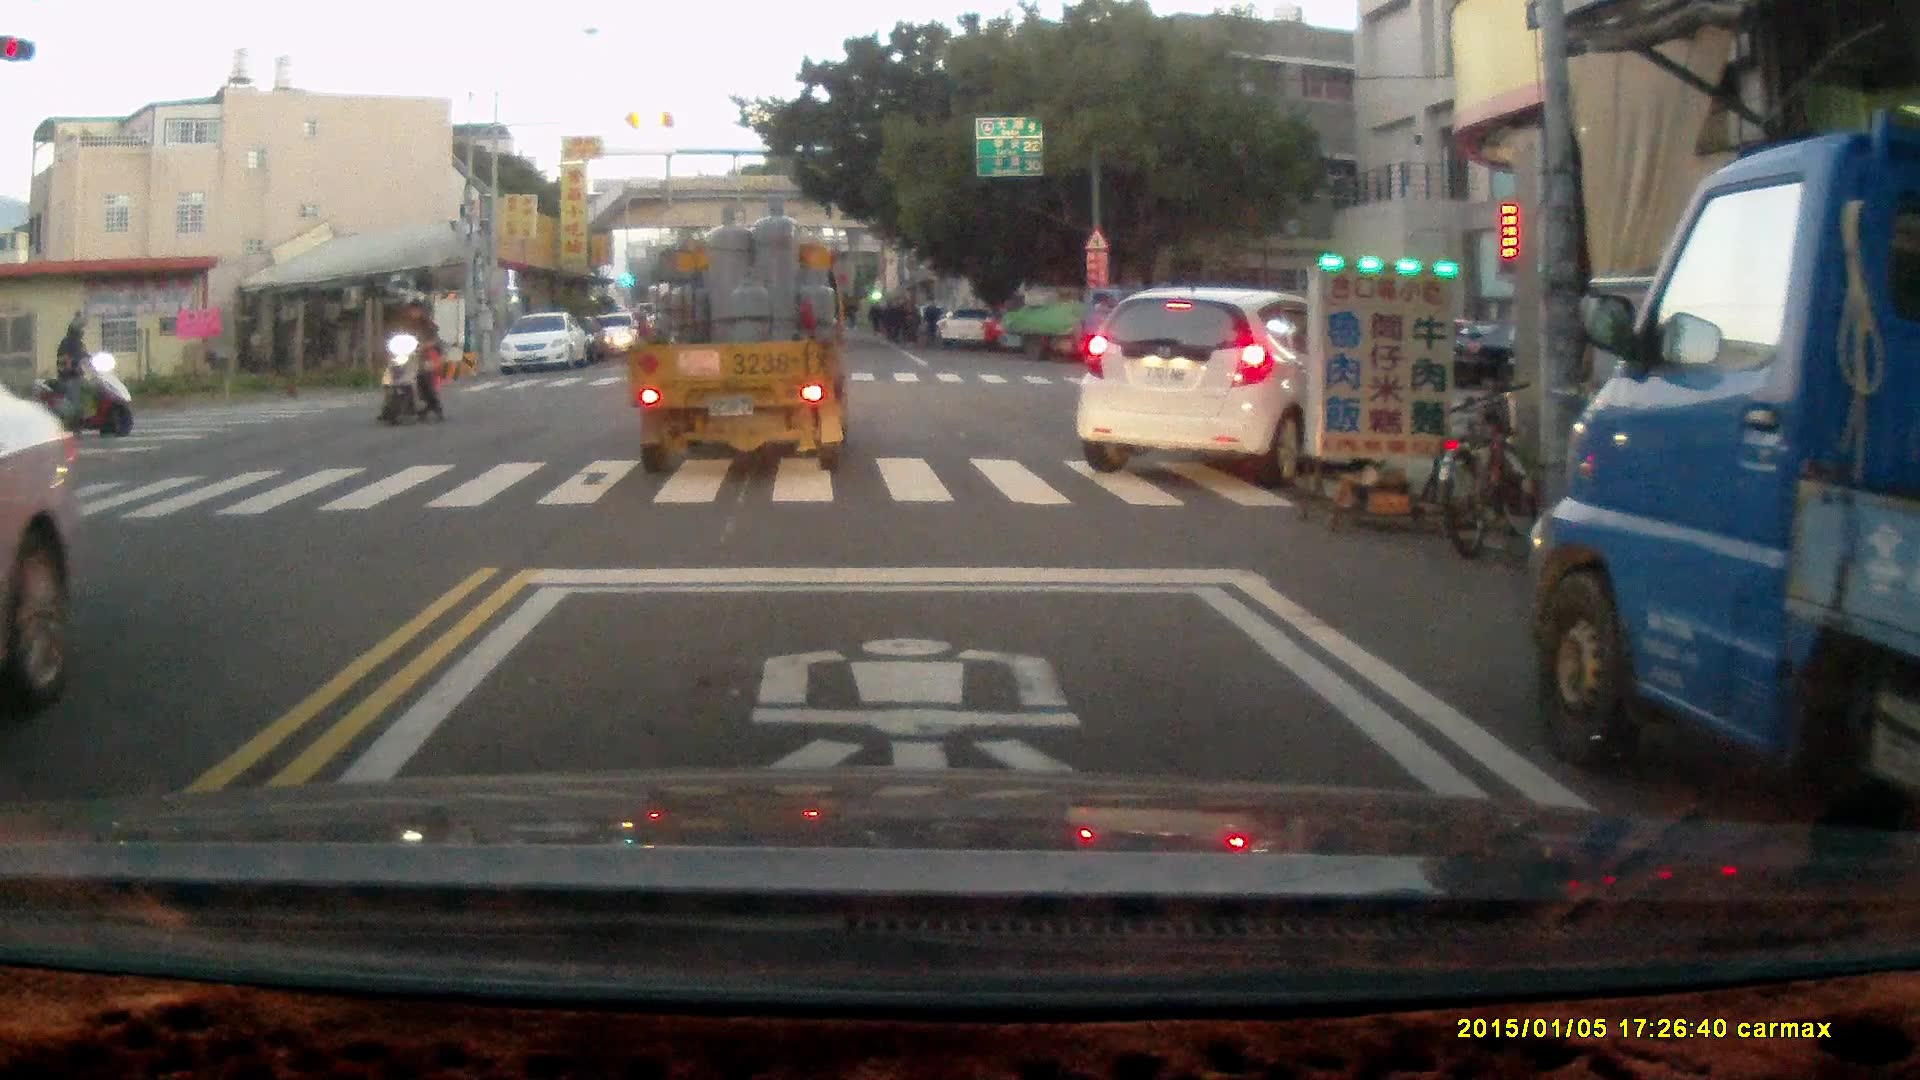rider: (32, 315, 131, 437), (377, 297, 445, 430)
vehicle: (1532, 132, 1920, 809), (625, 227, 852, 478), (1076, 289, 1365, 469), (1002, 284, 1170, 367), (503, 312, 588, 379)
